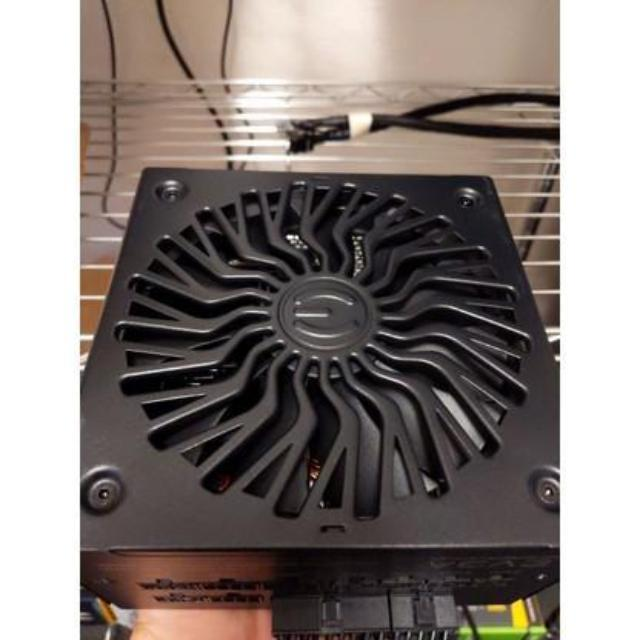PSU: (62, 165, 564, 582)
